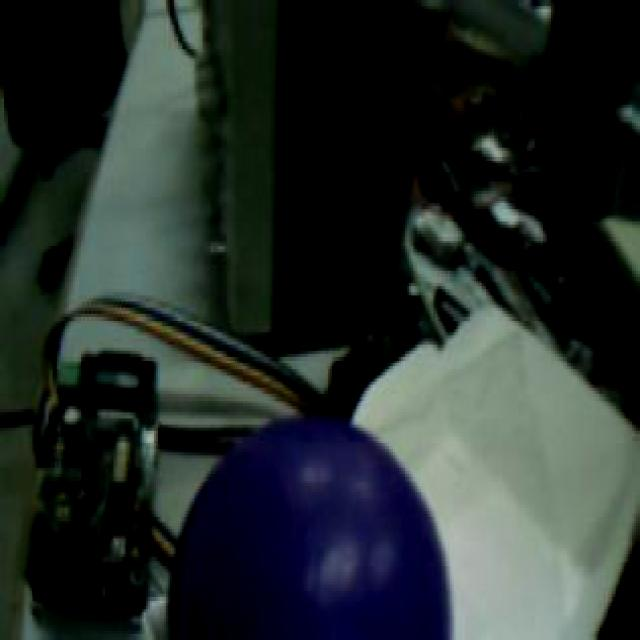BallPurple: (168, 418, 452, 640)
